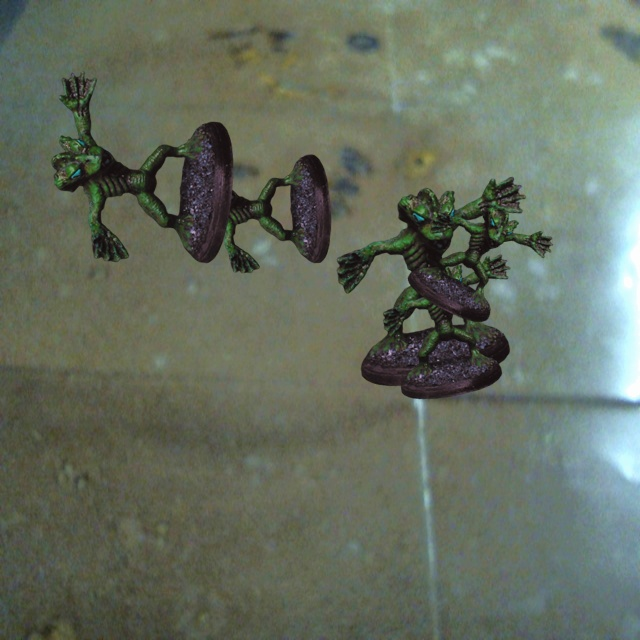pieza_juego: (337, 177, 525, 385), (51, 71, 232, 262), (188, 132, 330, 272), (383, 254, 510, 398), (408, 207, 552, 321)
